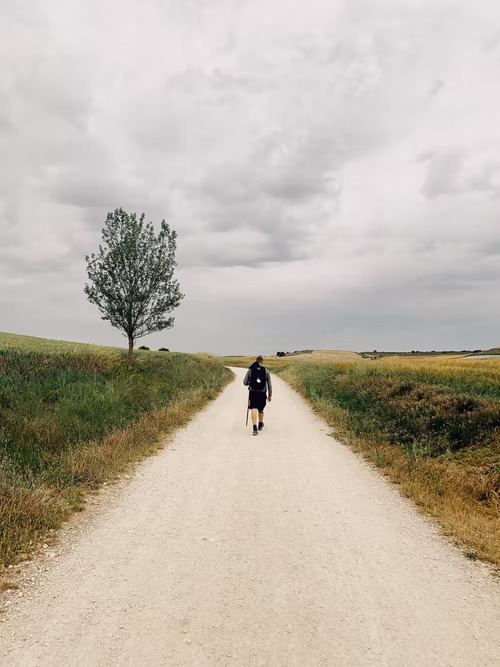person: (243, 355, 273, 434)
